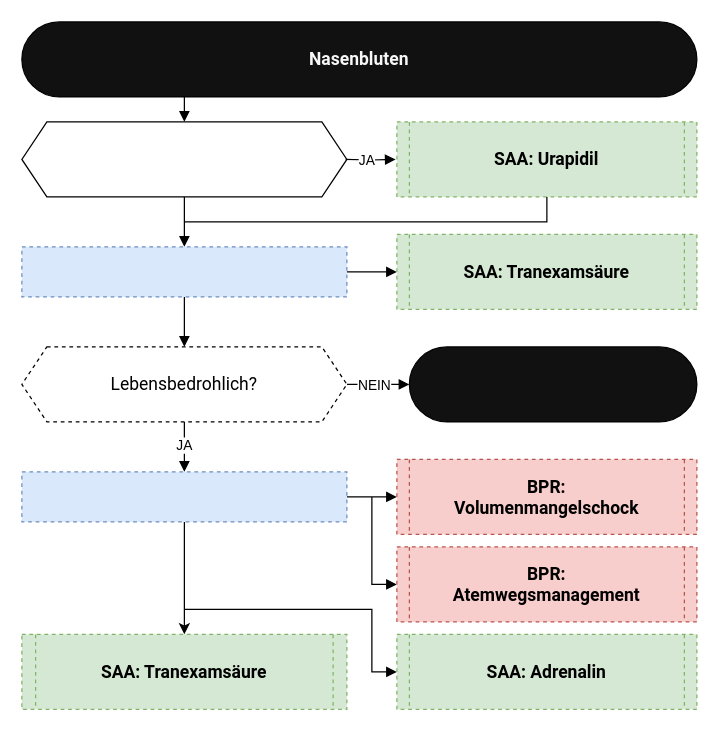
Image size: 719x731. Some labels were removed from this diagram. The shapes that lost their labels are listed below. From the top down, each one's centre as x and y in pixels, then its label:
At point 184,159: "Hypertensive Entgleisung?".
At point 184,271: "Basismaßnahmen".
At point 552,384: "Transport".
At point 184,496: "Zusätzliche Maßnahmen".
